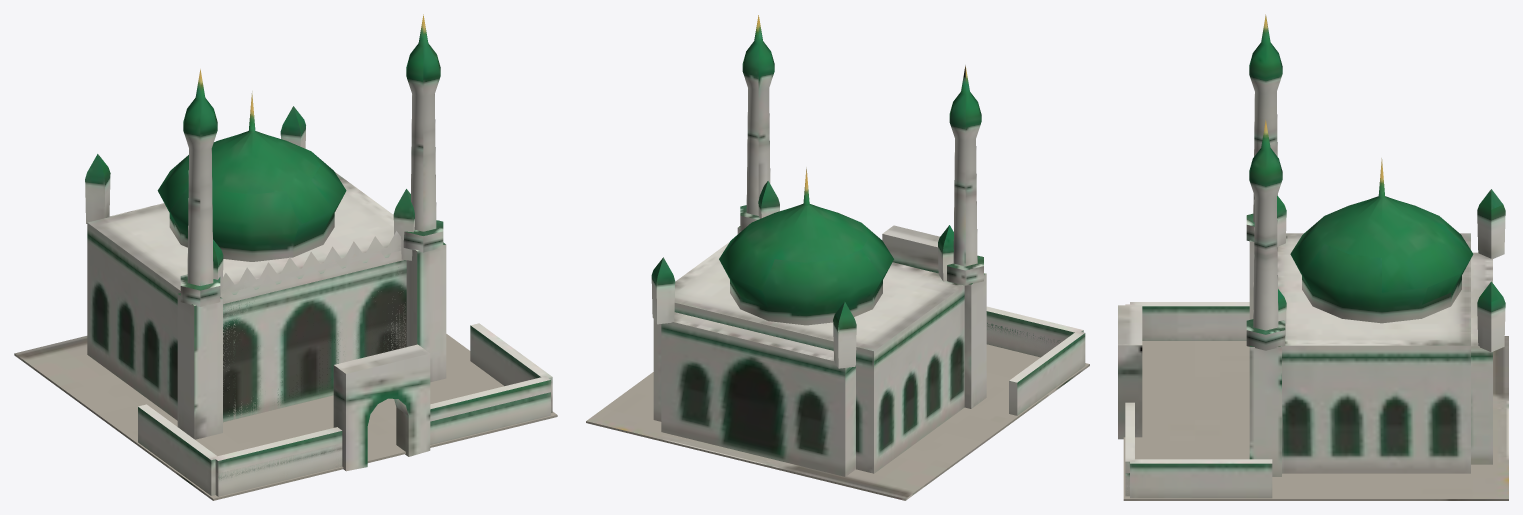
Rendered from kit_mosque.glb.
The picture shows the model from 3 angles, left to right: view 1: azimuth 30°, elevation 25°; view 2: azimuth 150°, elevation 25°; view 3: azimuth 270°, elevation 25°; orthographic projection. The views are drawn at different scales.
Visible parts, largest first — view 1: var_minars, var_dome, kit_mosque_body; view 2: var_dome, var_minars, kit_mosque_body; view 3: var_minars, var_dome, kit_mosque_body.
Part boxes in pixels (left/top/right/bottom): var_minars: left=87, top=14, right=550, bottom=496; var_dome: left=85, top=91, right=552, bottom=496; kit_mosque_body: left=14, top=334, right=557, bottom=500; var_dome: left=651, top=167, right=1085, bottom=476; var_minars: left=653, top=15, right=1059, bottom=473; kit_mosque_body: left=586, top=344, right=1089, bottom=500; var_minars: left=1125, top=14, right=1470, bottom=495; var_dome: left=1118, top=158, right=1505, bottom=498; kit_mosque_body: left=1123, top=336, right=1508, bottom=500.
Size of the model in its own units: 35.2 by 35.66 by 35.7.
Materials: 1 (1 with a texture image).
